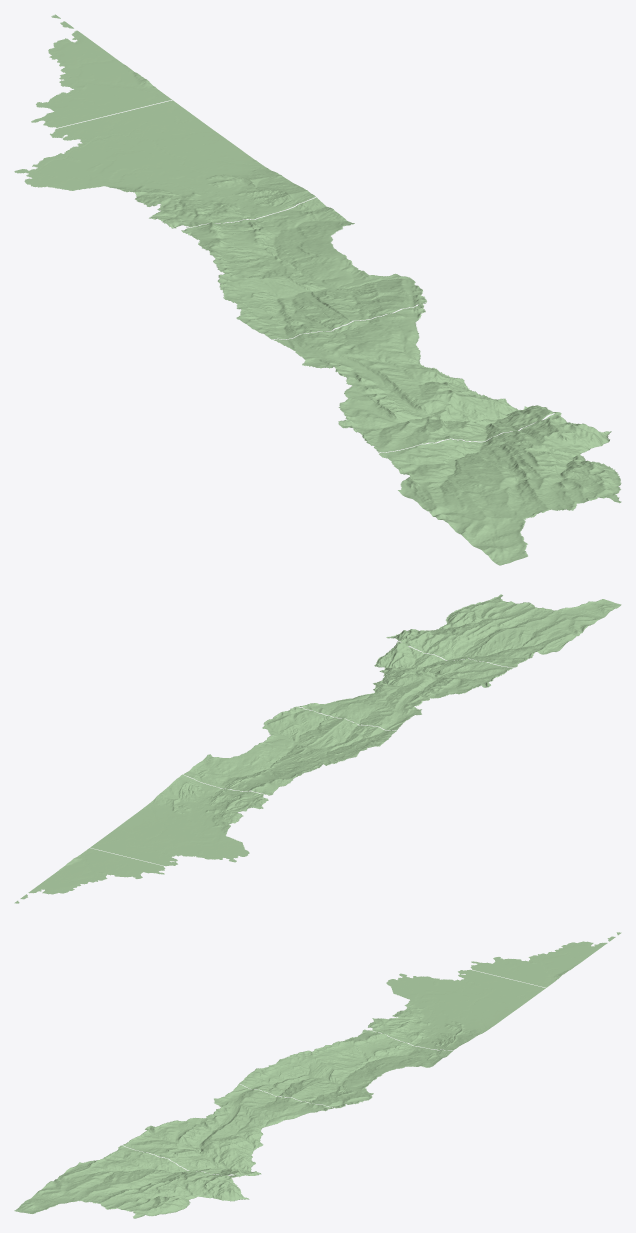
Rendered from bogota_3d_continuo.glb.
3 renders of one model, top to bottom at view 1: azimuth 30°, elevation 25°; view 2: azimuth 150°, elevation 25°; view 3: azimuth 330°, elevation 25°, orthographic. The views are drawn at different scales.
Visible parts, largest first — view 1: MDT_2025_Bogota_sector; view 2: MDT_2025_Bogota_sector; view 3: MDT_2025_Bogota_sector.
Part boxes in pixels (<box>): MDT_2025_Bogota_sector: <box>14,14,621,565</box>; MDT_2025_Bogota_sector: <box>14,594,621,903</box>; MDT_2025_Bogota_sector: <box>14,932,621,1218</box>.
Bounding box in the file's own units: 19920 × 1873 × 96240.
